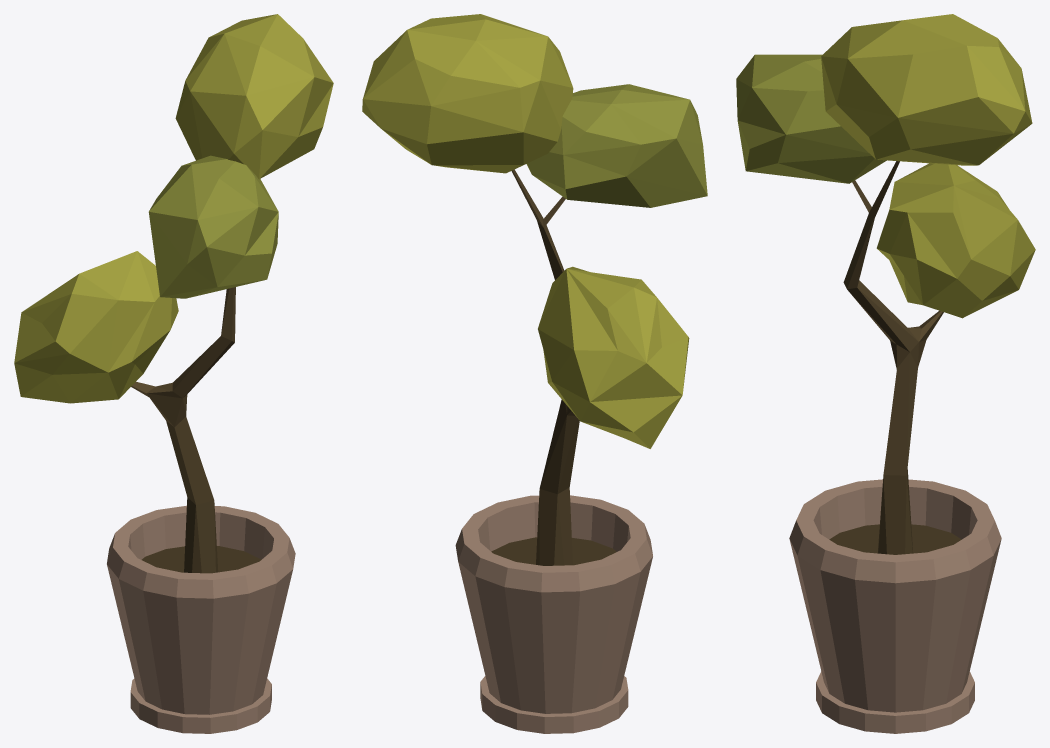
Rendered from fantasy_planter_2.fbx.
3 views of the same model, side by side, from view 1: azimuth 30°, elevation 25°; view 2: azimuth 150°, elevation 25°; view 3: azimuth 270°, elevation 25° (orthographic). The views are drawn at different scales.
Parts seen in each view (by area): view 1: Icosphere.002, Cylinder.006, Cube.034; view 2: Icosphere.002, Cylinder.006, Cube.034; view 3: Icosphere.002, Cylinder.006, Cube.034.
Boxes of the visible parts, <box> form: Icosphere.002: <box>14,14,333,403</box>; Cylinder.006: <box>107,505,295,733</box>; Cube.034: <box>131,287,235,573</box>; Icosphere.002: <box>362,14,707,448</box>; Cylinder.006: <box>455,495,652,733</box>; Cube.034: <box>511,169,579,565</box>; Icosphere.002: <box>736,14,1035,318</box>; Cylinder.006: <box>789,479,1001,733</box>; Cube.034: <box>843,161,943,554</box>.
Size of the model in its own units: 94.06 by 198 by 75.4.
